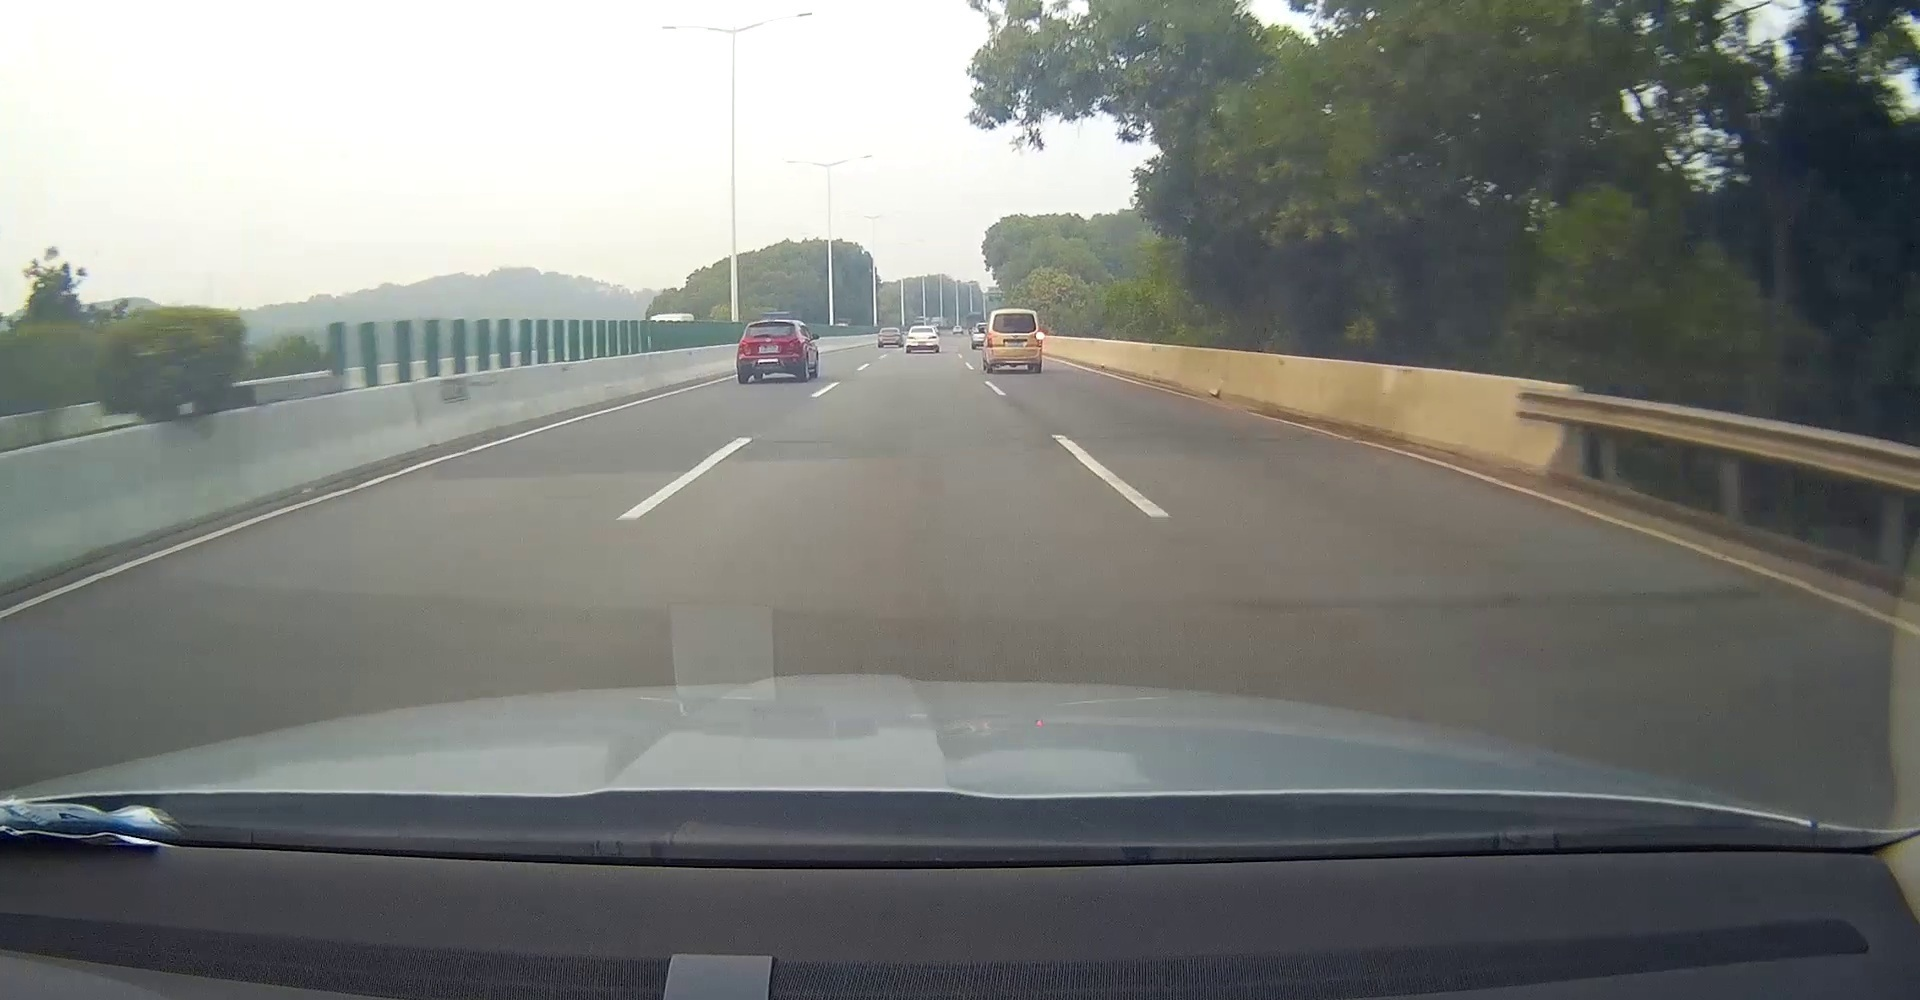L_light: (742, 340, 750, 357), (987, 332, 993, 348), (907, 336, 916, 339)
R_light: (789, 339, 799, 354), (1036, 332, 1043, 346), (928, 335, 937, 339)
T_light: (1010, 313, 1018, 317), (919, 327, 924, 330)
day-no: (737, 319, 806, 383), (905, 326, 938, 353), (766, 322, 776, 326)
day-right: (987, 308, 1043, 373)
